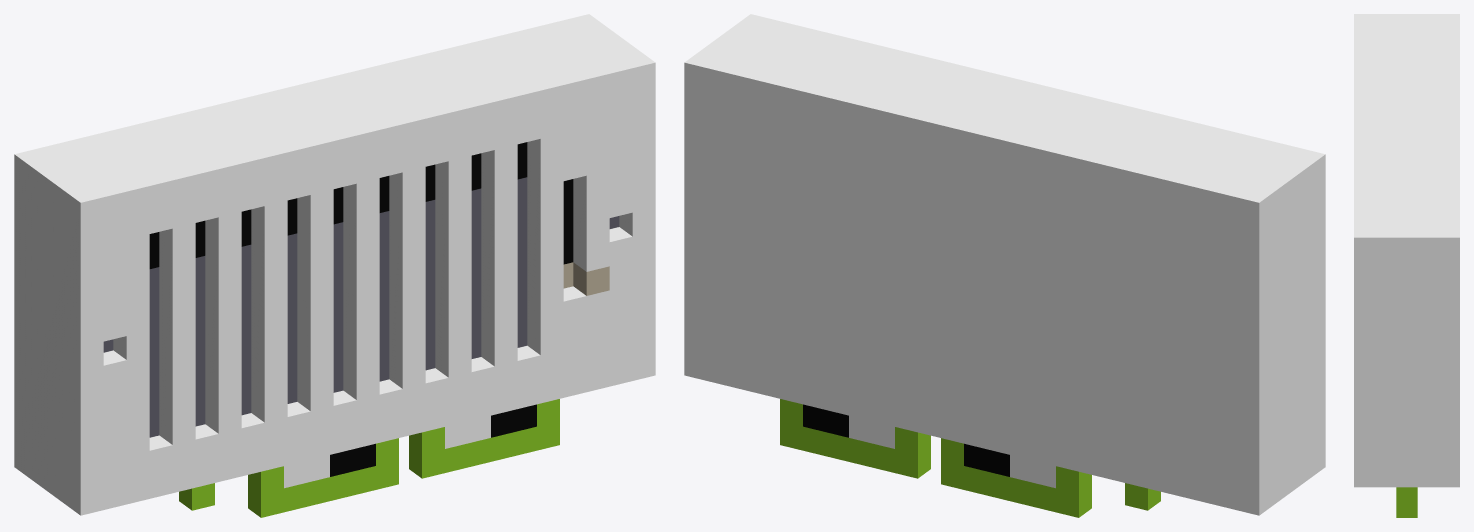
The model's file is vent.glb.
3 renders of one model, left to right at view 1: azimuth 30°, elevation 25°; view 2: azimuth 150°, elevation 25°; view 3: azimuth 270°, elevation 25°, orthographic. The views are drawn at different scales.
Parts seen in each view (by area): view 1: Base, l1, glasses, layer-2; view 2: Base, glasses, layer-2; view 3: Base, glasses.
Part boxes in pixels (left/top/right/bottom): Base: left=14, top=14, right=655, bottom=515; l1: left=80, top=62, right=655, bottom=514; glasses: left=179, top=399, right=559, bottom=517; layer-2: left=284, top=404, right=536, bottom=488; Base: left=684, top=14, right=1325, bottom=515; glasses: left=780, top=399, right=1160, bottom=517; layer-2: left=803, top=404, right=1055, bottom=488; Base: left=1354, top=14, right=1459, bottom=487; glasses: left=1396, top=487, right=1417, bottom=517.
Size of the model in its own units: 25 by 16 by 5.
Materials: 10 (10 with a texture image).
